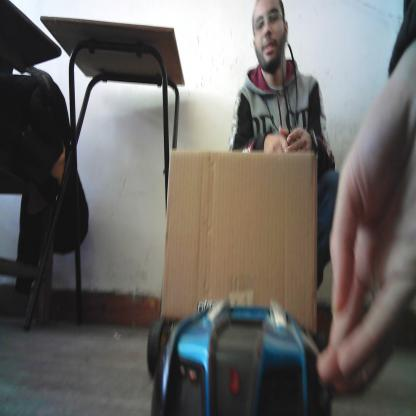LeadTruck: (146, 148, 322, 368)
